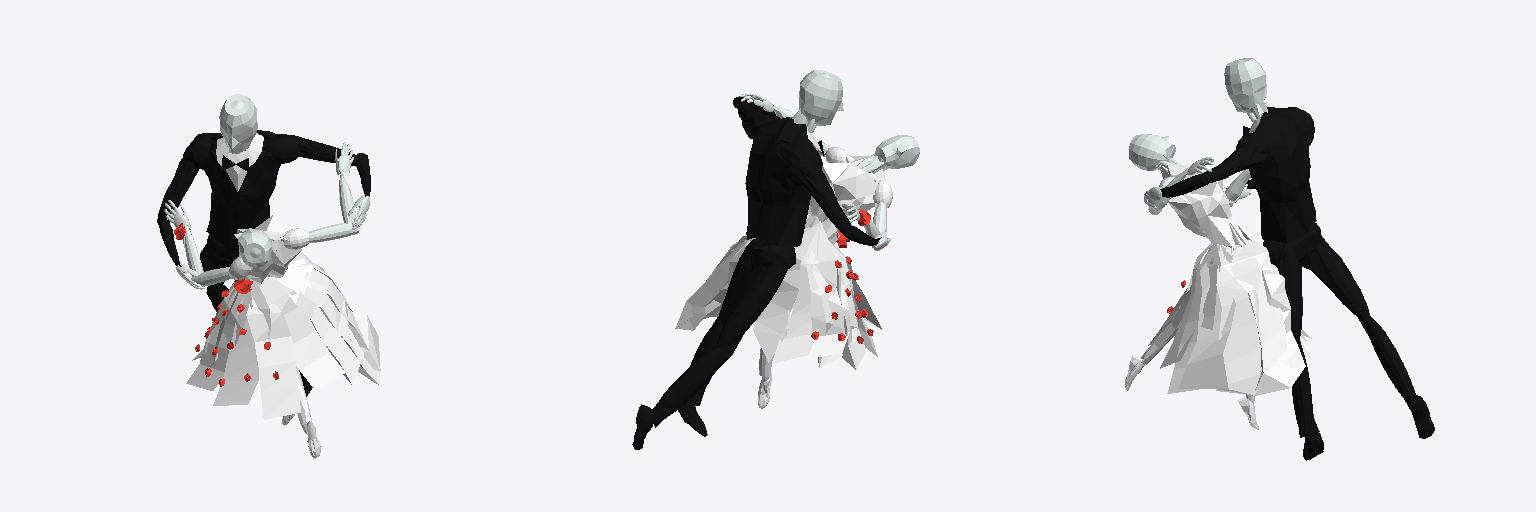
3 renders of one model, left to right at view 1: azimuth 30°, elevation 25°; view 2: azimuth 150°, elevation 25°; view 3: azimuth 270°, elevation 25°, orthographic.
Parts seen in each view (by area): view 1: group[number redacted], group[number redacted], group[number redacted], group[number redacted], group[number redacted], group[number redacted], group[number redacted], group[number redacted], group[number redacted], group[number redacted], group[number redacted], group[number redacted] (+5 smaller); view 2: group[number redacted], group[number redacted], group[number redacted], group[number redacted], group[number redacted], group[number redacted], group[number redacted], group[number redacted], group[number redacted], group[number redacted], group[number redacted], group[number redacted] (+9 smaller); view 3: group[number redacted], group[number redacted], group[number redacted], group[number redacted], group[number redacted], group[number redacted], group[number redacted], group[number redacted], group[number redacted], group[number redacted], group[number redacted], group[number redacted] (+6 smaller).
Boxes of the visible parts, x1,y1,x2,y2 form: group[number redacted]: [206, 130, 280, 248]; group[number redacted]: [246, 297, 300, 419]; group[number redacted]: [260, 276, 344, 390]; group[number redacted]: [213, 282, 270, 405]; group[number redacted]: [186, 288, 252, 390]; group[number redacted]: [286, 265, 379, 385]; group[number redacted]: [277, 272, 363, 385]; group[number redacted]: [219, 94, 257, 153]; group[number redacted]: [285, 258, 380, 371]; group[number redacted]: [237, 215, 301, 284]; group[number redacted]: [234, 228, 271, 267]; group[number redacted]: [157, 159, 198, 223]; group[number redacted]: [745, 117, 810, 246]; group[number redacted]: [772, 223, 836, 363]; group[number redacted]: [807, 156, 885, 244]; group[number redacted]: [753, 221, 820, 362]; group[number redacted]: [715, 263, 787, 352]; group[number redacted]: [805, 249, 849, 358]; group[number redacted]: [652, 344, 733, 427]; group[number redacted]: [799, 70, 843, 125]; group[number redacted]: [675, 238, 755, 328]; group[number redacted]: [797, 170, 851, 236]; group[number redacted]: [874, 135, 919, 168]; group[number redacted]: [812, 243, 857, 367]; group[number redacted]: [1249, 107, 1316, 242]; group[number redacted]: [1216, 245, 1267, 394]; group[number redacted]: [1223, 238, 1290, 396]; group[number redacted]: [1178, 244, 1235, 388]; group[number redacted]: [1159, 158, 1234, 247]; group[number redacted]: [1167, 244, 1220, 393]; group[number redacted]: [1311, 235, 1370, 324]; group[number redacted]: [1224, 58, 1266, 112]; group[number redacted]: [1261, 264, 1305, 388]; group[number redacted]: [1358, 317, 1415, 409]; group[number redacted]: [1275, 243, 1302, 340]; group[number redacted]: [1129, 134, 1175, 170].
Bounding box in the file's own units: 1.63 × 2.9 × 2.25.